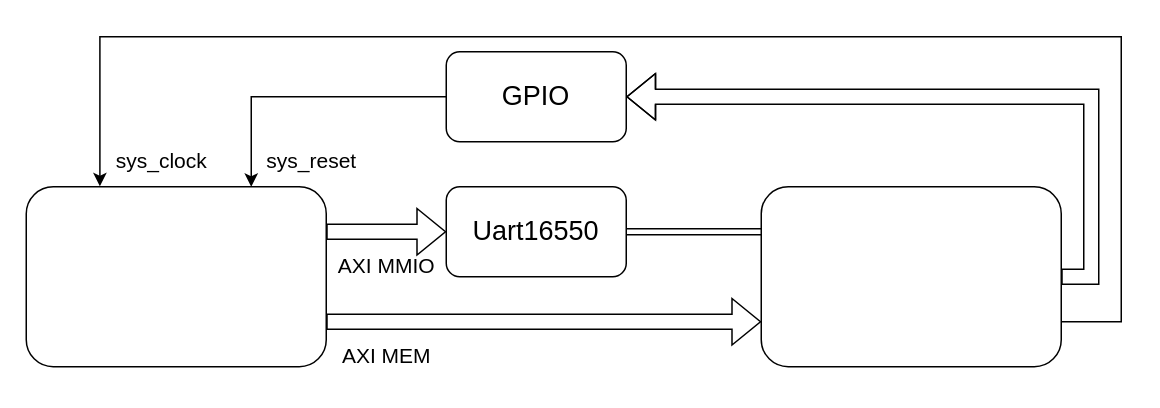
The diagram is 1160 pixels wide and 408 high, and some of its shapes have lost their labels. Here are the shapes that lost their labels. From the top down, the centre of each, then its label:
At (175,276): "Rocket Chip".
At (910,276): "Zynq MPSoC".
